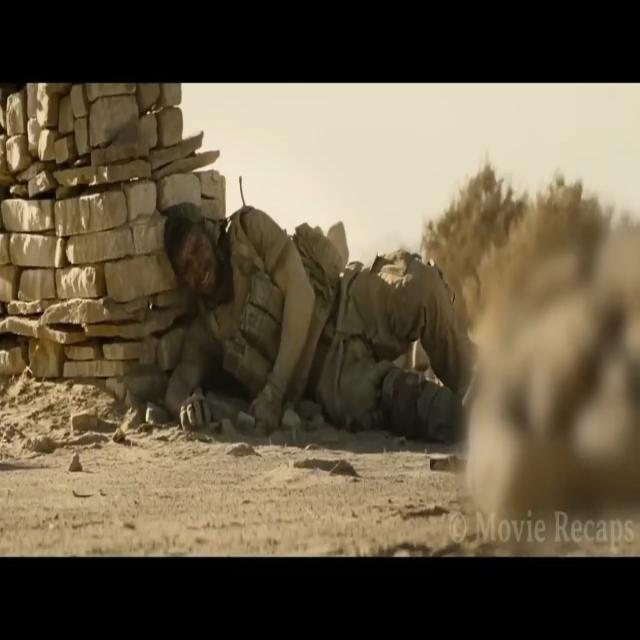MIL_Pax: (164, 202, 474, 440)
